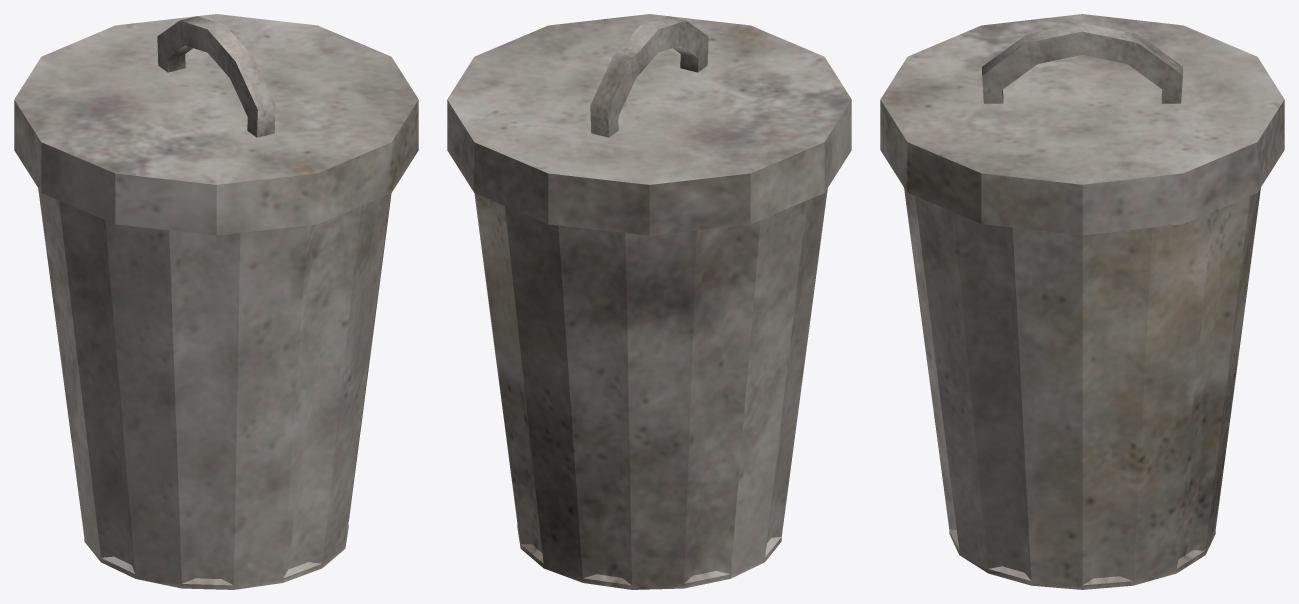
Rendered from TrashCan.fbx.
The picture shows the model from 3 angles, left to right: view 1: azimuth 30°, elevation 25°; view 2: azimuth 150°, elevation 25°; view 3: azimuth 270°, elevation 25°; orthographic projection.
Parts seen in each view (by area): view 1: Trash; view 2: Trash; view 3: Trash.
Part boxes in pixels (x1,y1,x2,y2): Trash: (14,14,418,589); Trash: (447,14,851,589); Trash: (880,14,1284,589).
Size of the model in its own units: 4.37 by 6.04 by 4.37.
1 material, 1 textured.
